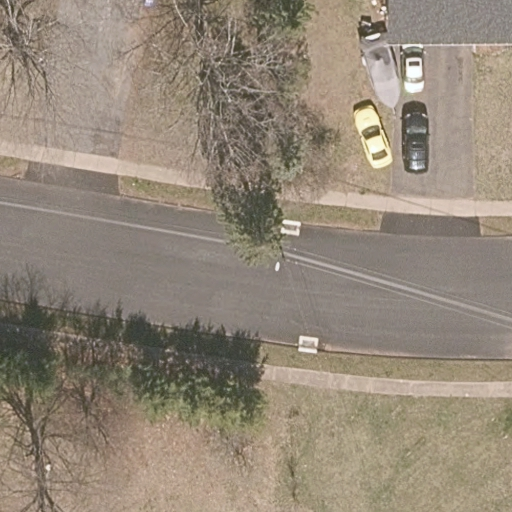DT: (267, 234, 298, 271)
